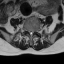CCS_normal: (30, 29, 32, 38)
LFS_severe_stenosis: (34, 28, 36, 34)
LLS_normal: (32, 29, 34, 36)
RFS_stenosis: (26, 28, 28, 33)
RLS_normal: (28, 29, 30, 35)
